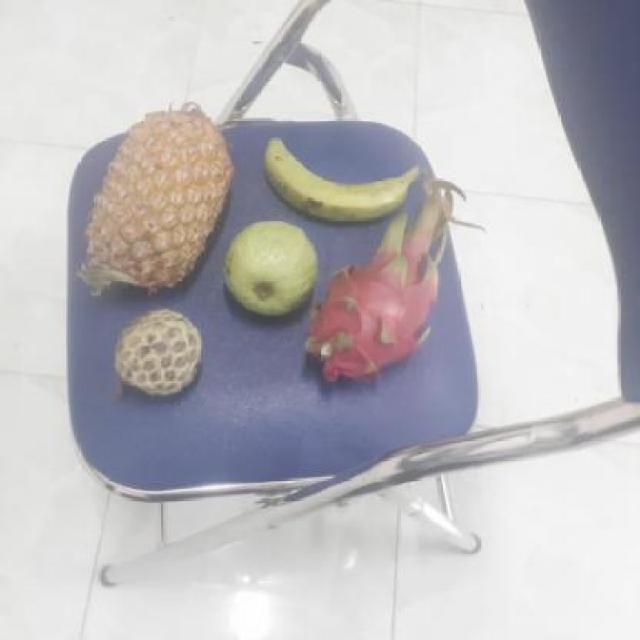banana: (260, 129, 417, 223)
dragon fruit: (302, 202, 440, 380)
guava: (217, 218, 320, 318)
pineapple: (75, 109, 230, 296)
sugar apple: (105, 310, 201, 398)
